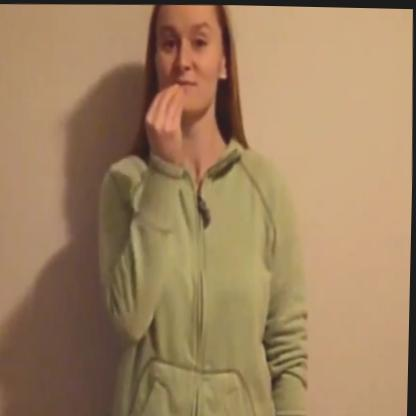Food: (122, 2, 297, 293)
